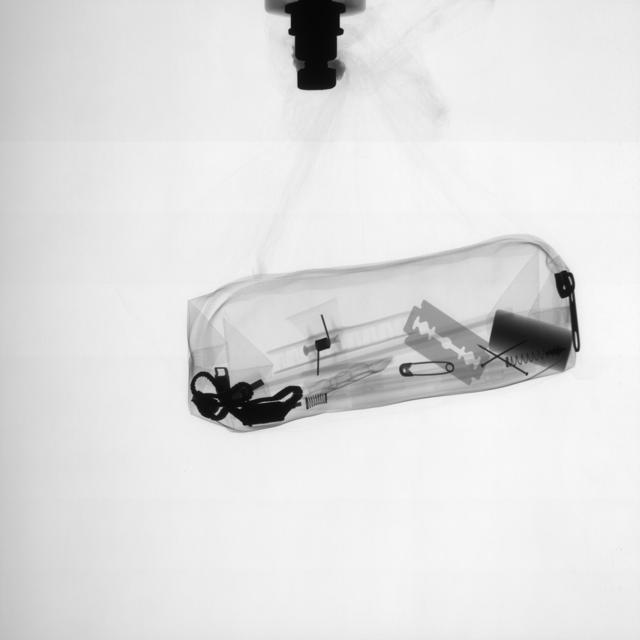razor: (398, 297, 494, 386)
